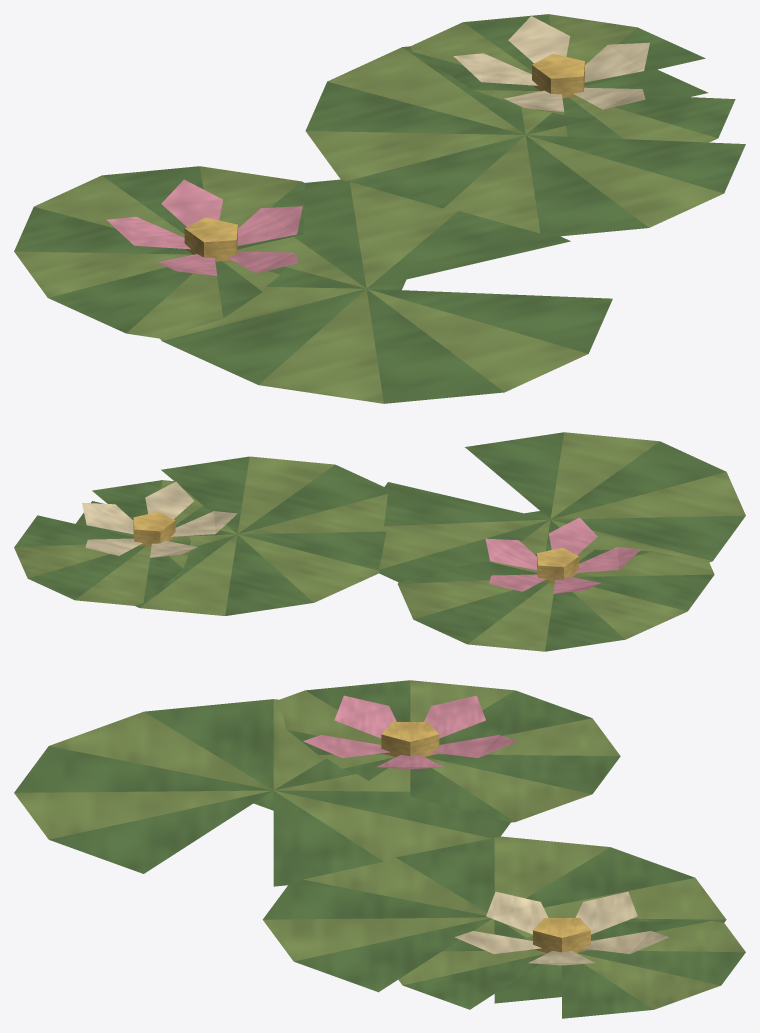
File: water_lily_set_02.fbx
The picture shows the model from 3 angles, top to bottom: view 1: azimuth 30°, elevation 25°; view 2: azimuth 150°, elevation 25°; view 3: azimuth 270°, elevation 25°; orthographic projection. The views are drawn at different scales.
Parts seen in each view (by area): view 1: water_lily_set_02; view 2: water_lily_set_02; view 3: water_lily_set_02.
Part boxes in pixels (box(x1,y1,x2,y2)): water_lily_set_02: box(14, 14, 745, 403); water_lily_set_02: box(14, 432, 745, 651); water_lily_set_02: box(14, 680, 745, 1018).
Bounding box in the file's own units: 131 × 5 × 120.
Materials: 1 (1 with a texture image).
